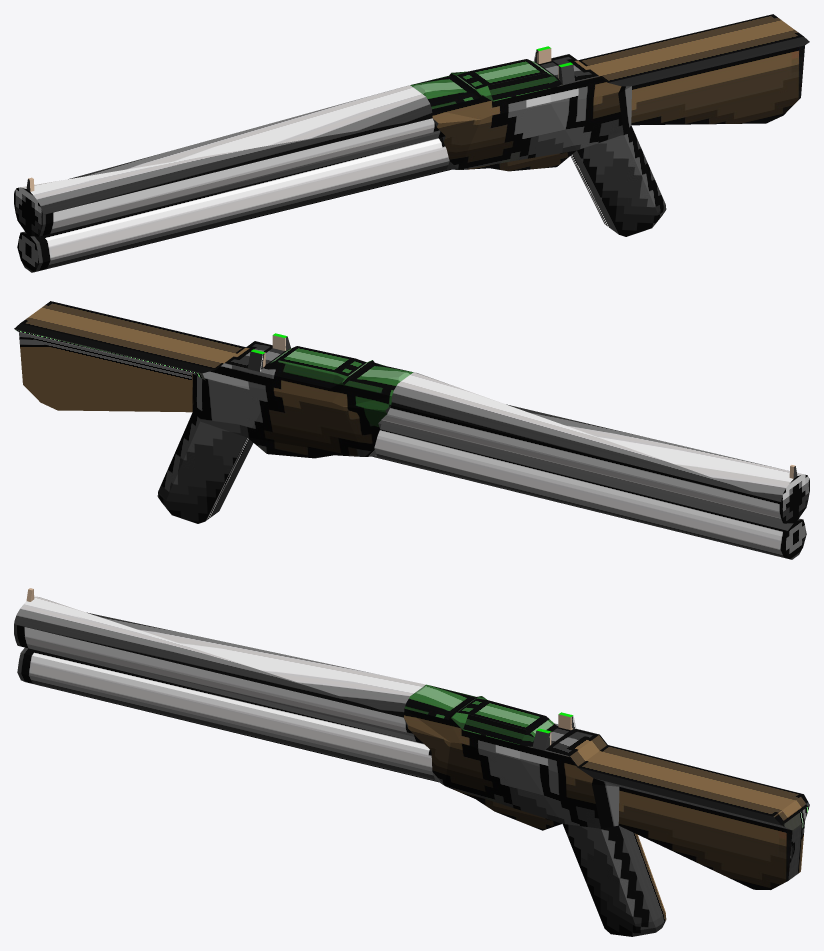
File: ShotgunMain 1.fbx
3 renders of one model, top to bottom at view 1: azimuth 30°, elevation 25°; view 2: azimuth 150°, elevation 25°; view 3: azimuth 330°, elevation 25°, orthographic.
Parts seen in each view (by area): view 1: Cube; view 2: Cube; view 3: Cube.
Boxes of the visible parts, x1,y1,x2,y2 form: Cube: (14,14,809,272); Cube: (14,301,809,559); Cube: (14,588,809,936).
Size of the model in its own units: 2298 by 559 by 158.
1 material, 1 textured.
